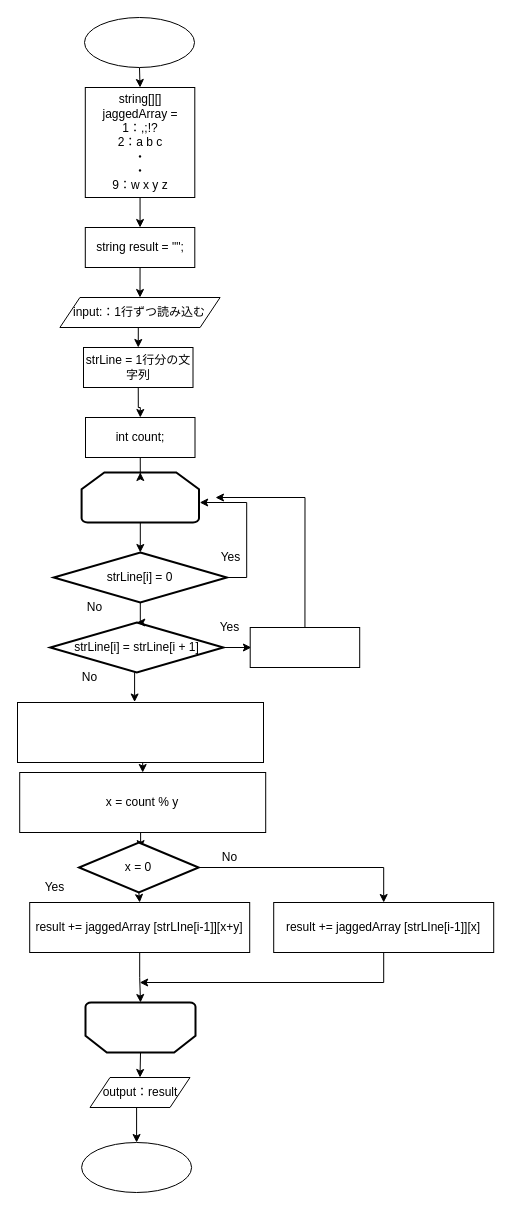
The diagram is 512 pixels wide and 1210 high, and some of its shapes have lost their labels. The shapes that lost their labels are listed below. From the top down, each one's centre as x and y in pixels, then its label:
(139,42): 開始
(140,497): 反復処理 i = 0 strLine.Lengthまで
(304,647): count++
(140,732): y = jaggedArray [strLIne[i-1]].length
(140,1027): 反復処理
(136,1167): 終了
